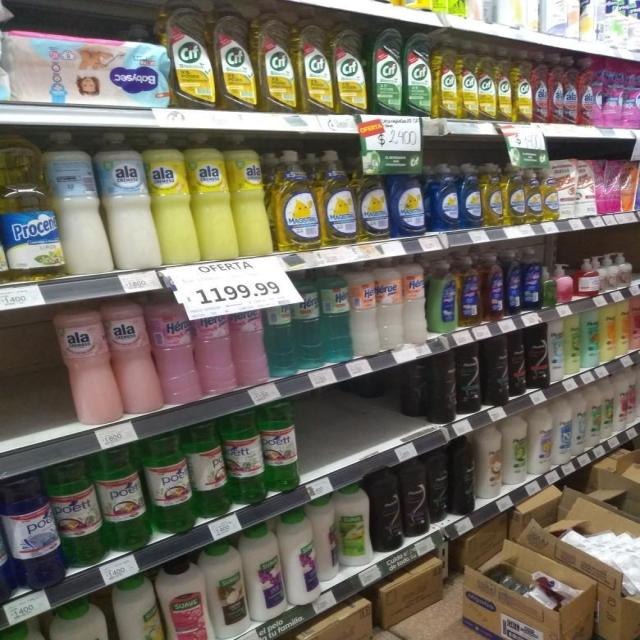ala_conc_rojo: (548, 59, 564, 124), (563, 59, 578, 125), (533, 62, 548, 124), (579, 61, 593, 126)
ala_crem_amarillo: (150, 132, 192, 265), (192, 133, 232, 261), (232, 136, 270, 258)
ala_crem_blanco: (102, 131, 152, 270)
ala_crem_rosado: (58, 303, 116, 424), (111, 296, 156, 414)
cif_conc_bot_amarilla: (166, 0, 214, 109), (256, 0, 296, 114), (215, 0, 255, 112), (297, 8, 332, 116), (333, 18, 368, 116), (435, 46, 459, 120), (460, 55, 478, 120), (478, 57, 496, 121), (514, 59, 532, 123), (496, 59, 513, 122)
cif_conc_botella_verde: (371, 25, 402, 116), (404, 30, 432, 118)
heroe: (154, 290, 196, 404), (232, 290, 264, 386), (321, 264, 350, 362), (351, 262, 377, 356), (294, 272, 320, 366), (377, 257, 402, 350), (403, 255, 427, 344)
magistral_con_amarillo: (274, 150, 318, 252), (321, 149, 356, 246), (358, 150, 390, 242), (482, 162, 504, 228), (505, 160, 525, 225), (525, 159, 542, 223), (542, 160, 559, 221)
magistral_con_azul: (390, 155, 426, 237), (430, 162, 459, 232), (460, 162, 482, 229)
zorro: (429, 259, 457, 334), (459, 255, 481, 327), (483, 252, 504, 320)
